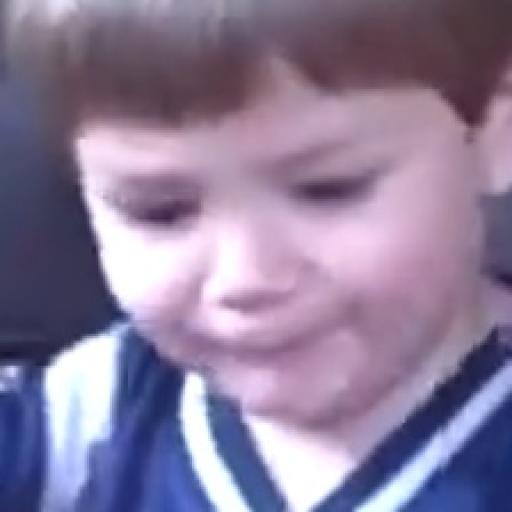Autism: (36, 3, 512, 415)
